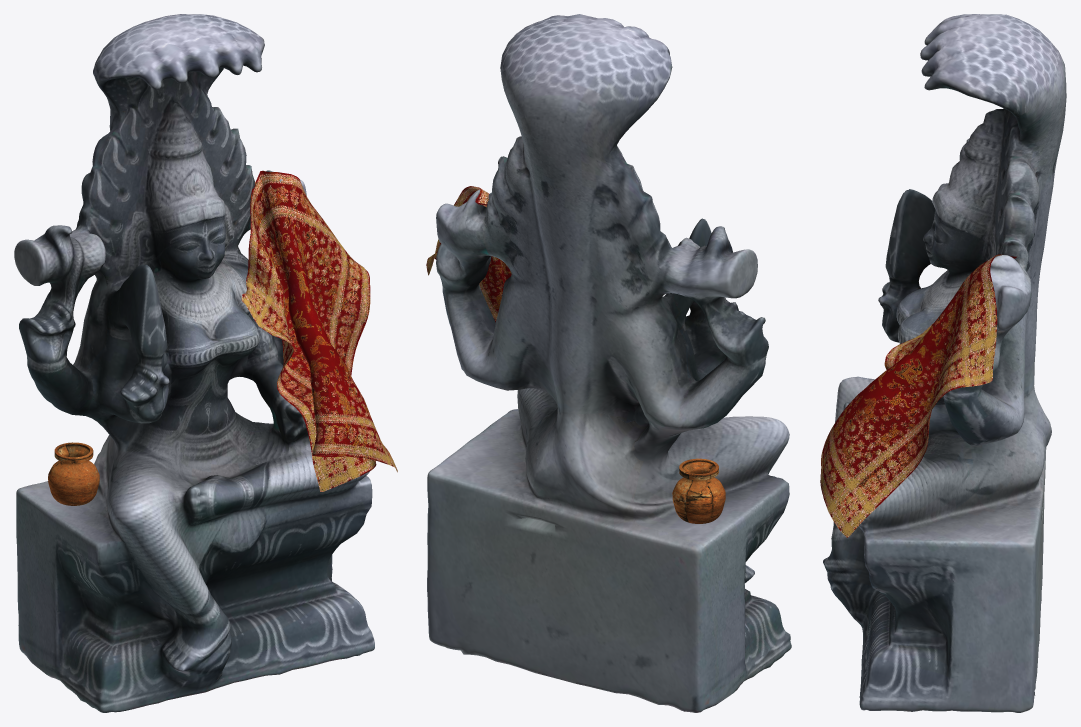
File: Devi.fbx
3 renders of one model, left to right at view 1: azimuth 30°, elevation 25°; view 2: azimuth 150°, elevation 25°; view 3: azimuth 270°, elevation 25°, orthographic. The views are drawn at different scales.
Parts seen in each view (by area): view 1: LR_A1, Stoffa1, Lota1; view 2: LR_A1, Lota1, Stoffa1; view 3: LR_A1, Stoffa1.
Boxes of the visible parts, x1,y1,x2,y2 form: LR_A1: (14,14,374,712); Stoffa1: (241,170,397,491); Lota1: (48,442,99,505); LR_A1: (427,14,791,712); Lota1: (672,458,725,523); Stoffa1: (426,186,511,322); LR_A1: (823,14,1066,712); Stoffa1: (820,254,1016,537).
Bounding box in the file's own units: 18.39 × 32.49 × 11.72.
4 materials, 4 textured.
